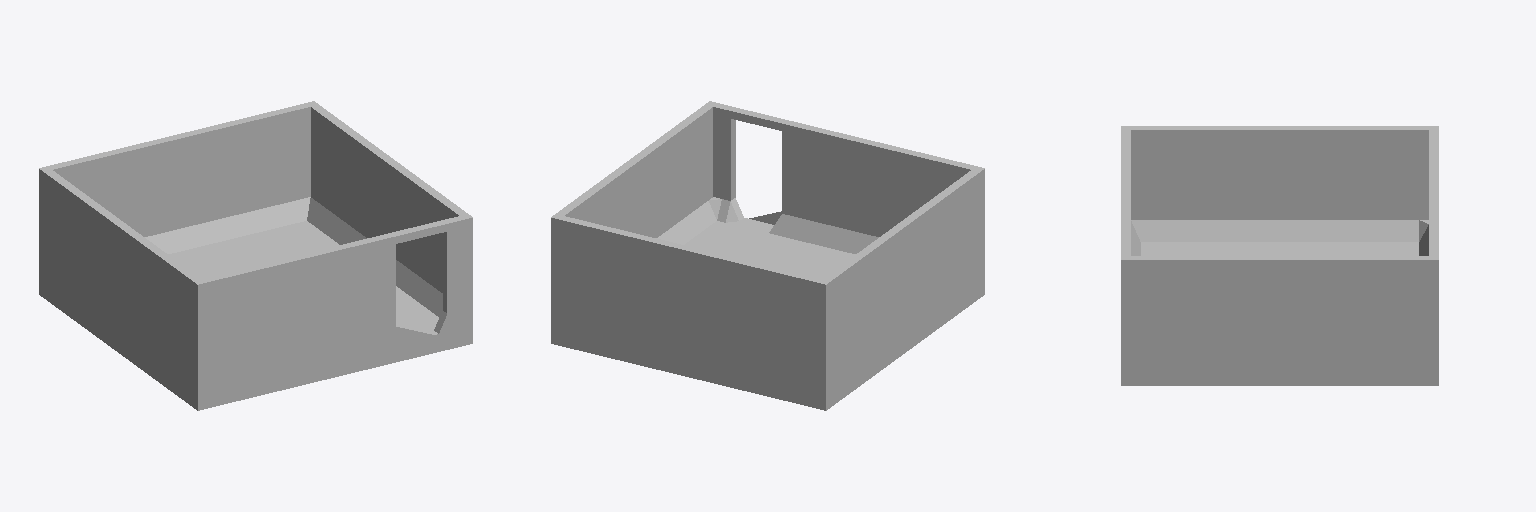
File: placeholder house.obj
3 renders of one model, left to right at view 1: azimuth 30°, elevation 25°; view 2: azimuth 150°, elevation 25°; view 3: azimuth 270°, elevation 25°, orthographic.
Parts seen in each view (by area): view 1: Cube_Cube.001; view 2: Cube_Cube.001; view 3: Cube_Cube.001.
Boxes of the visible parts, <box> form: Cube_Cube.001: <box>39,101,472,410</box>; Cube_Cube.001: <box>551,101,984,410</box>; Cube_Cube.001: <box>1121,126,1438,385</box>.
Size of the model in its own units: 16 by 7 by 16.